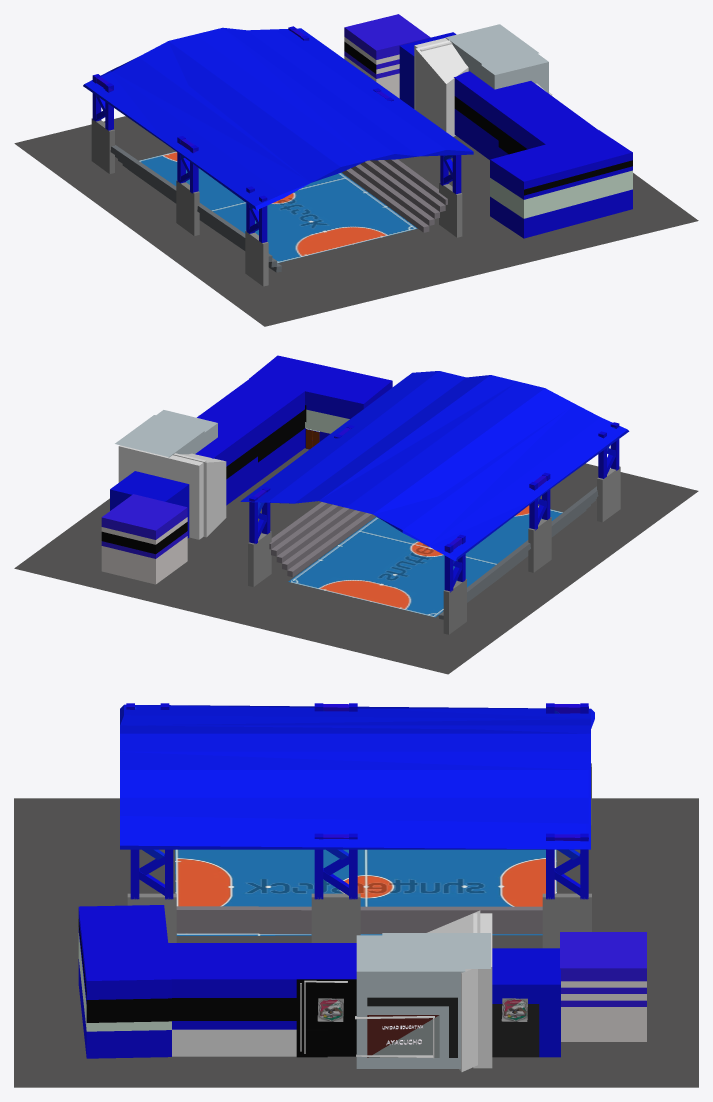
The model's file is cancha_futsal.glb.
3 views of the same model, one above another, from view 1: azimuth 30°, elevation 25°; view 2: azimuth 150°, elevation 25°; view 3: azimuth 270°, elevation 25° (orthographic). The views are drawn at different scales.
Parts seen in each view (by area): view 1: Cube.009, Plane.004, Cube.004, Plane, Cube.003, Cube, Cube.007, Cube.006, Cube.001, Cube.008, Cube.005, Cube.010 (+3 smaller); view 2: Plane.004, Cube.009, Plane, Cube.003, Cube.006, Cube.004, Cube.007, Cube, Cube.002, Cube.005, Cube.008, Cube.001 (+4 smaller); view 3: Plane.004, Cube.009, Cube.003, Plane, Cube.004, Cube, Cube.006, Cube.007, Cube.005, Cube.052, Cube.038, Cube.001 (+5 smaller).
Part boxes in pixels (bbox=[...]): Cube.009: bbox=[83, 27, 473, 210]; Plane.004: bbox=[14, 116, 698, 326]; Cube.004: bbox=[490, 130, 632, 238]; Plane: bbox=[139, 151, 417, 262]; Cube.003: bbox=[454, 71, 599, 159]; Cube: bbox=[445, 24, 548, 93]; Cube.007: bbox=[342, 159, 447, 232]; Cube.006: bbox=[344, 14, 430, 98]; Cube.001: bbox=[415, 40, 468, 136]; Cube.008: bbox=[110, 145, 281, 272]; Cube.005: bbox=[399, 32, 456, 108]; Cube.010: bbox=[245, 230, 268, 286]; Plane.004: bbox=[14, 448, 698, 674]; Cube.009: bbox=[240, 371, 629, 561]; Plane: bbox=[288, 505, 562, 617]; Cube.003: bbox=[195, 378, 304, 505]; Cube.006: bbox=[101, 494, 187, 584]; Cube.004: bbox=[249, 355, 392, 449]; Cube.007: bbox=[269, 502, 375, 577]; Cube: bbox=[115, 410, 217, 457]; Cube.002: bbox=[118, 445, 206, 539]; Cube.005: bbox=[110, 471, 189, 538]; Cube.008: bbox=[438, 486, 598, 619]; Cube.001: bbox=[172, 453, 226, 537]; Plane.004: bbox=[14, 798, 698, 1087]; Cube.009: bbox=[120, 704, 594, 849]; Cube.003: bbox=[168, 943, 356, 1057]; Plane: bbox=[175, 849, 556, 935]; Cube.004: bbox=[78, 905, 171, 1058]; Cube: bbox=[356, 933, 490, 1068]; Cube.006: bbox=[560, 932, 646, 1041]; Cube.007: bbox=[176, 906, 542, 933]; Cube.005: bbox=[492, 948, 560, 1057]; Cube.052: bbox=[367, 1015, 439, 1057]; Cube.038: bbox=[311, 893, 360, 942]; Cube.001: bbox=[427, 910, 480, 1071].
Bounding box in the file's own units: 160 × 41.98 × 160.
32 materials, 2 textured.
